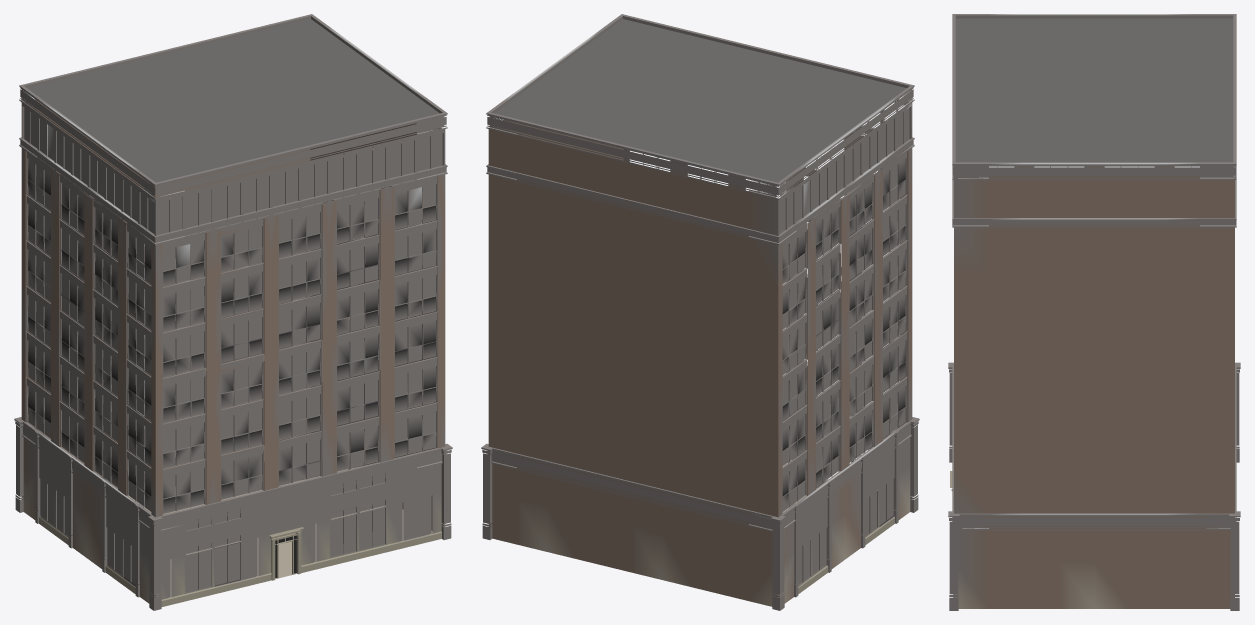
Rendered from downtown_large.glb.
3 views of the same model, side by side, from view 1: azimuth 30°, elevation 25°; view 2: azimuth 150°, elevation 25°; view 3: azimuth 270°, elevation 25° (orthographic). The views are drawn at different scales.
Parts seen in each view (by area): view 1: downtown_large; view 2: downtown_large; view 3: downtown_large.
Part boxes in pixels (x1,y1,x2,y2): downtown_large: [14, 14, 452, 610]; downtown_large: [481, 14, 919, 610]; downtown_large: [948, 14, 1240, 610].
Bounding box in the file's own units: 20.64 × 28 × 16.64.
